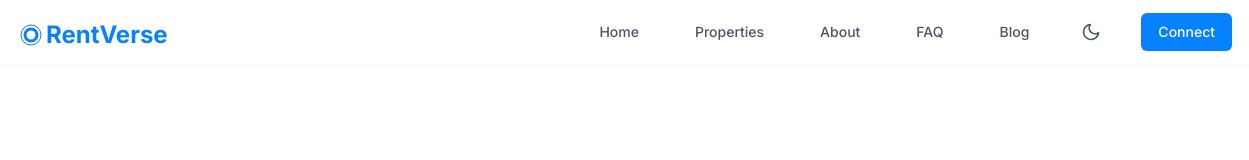
shows a useful message when no injected wallet is available
This screenshot has width=1249, height=160.
What coordinates should you click on to do the following:
click the button "Connect"
I would click on:
 (1187, 32)
Its box is left=1141, top=13, right=1232, bottom=51.
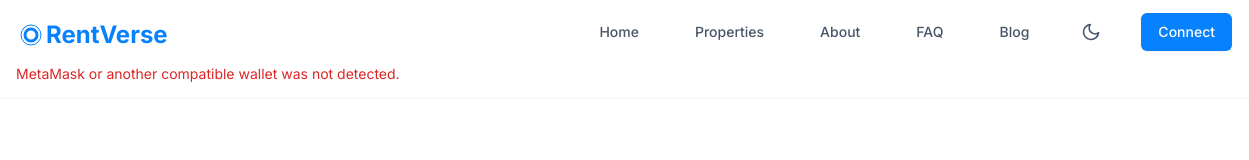
Check: the message shows "not detected", box left=16, top=65, right=400, bottom=82
